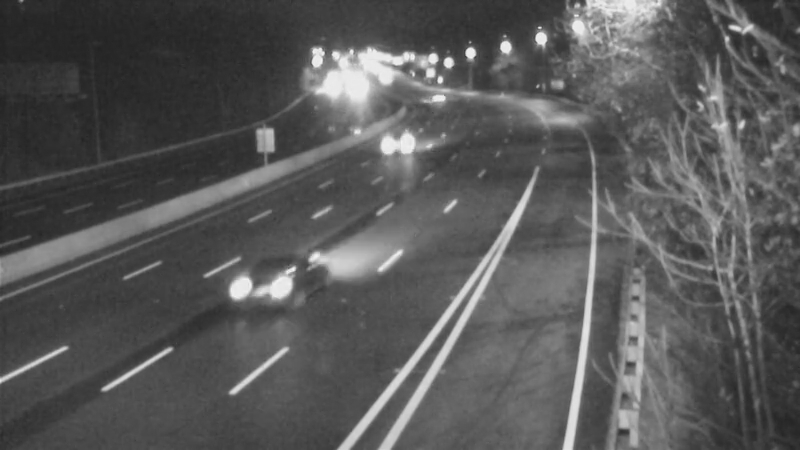vehicle: (217, 247, 297, 327), (413, 76, 463, 126), (378, 119, 428, 169)
